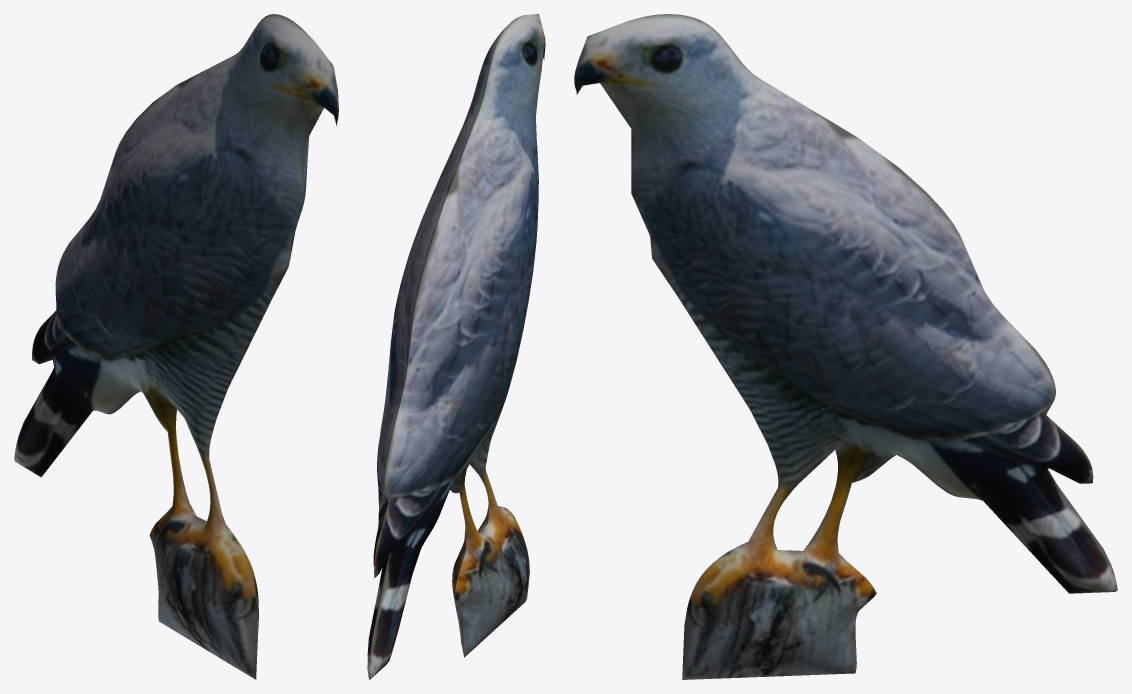
File: 3-removebg-preview.gltf
The picture shows the model from 3 angles, left to right: view 1: azimuth 30°, elevation 25°; view 2: azimuth 150°, elevation 25°; view 3: azimuth 270°, elevation 25°; orthographic projection. The views are drawn at different scales.
Visible parts, largest first — view 1: node1; view 2: node1; view 3: node1.
Boxes of the visible parts, x1,y1,x2,y2 form: node1: (14, 14, 338, 679); node1: (367, 14, 545, 679); node1: (574, 14, 1117, 679).
Size of the model in its own units: 0.2226 by 1.12 by 0.8122.
1 material, 1 textured.
